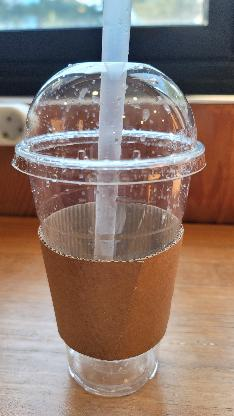Plastic Cup: (10, 60, 206, 396)
